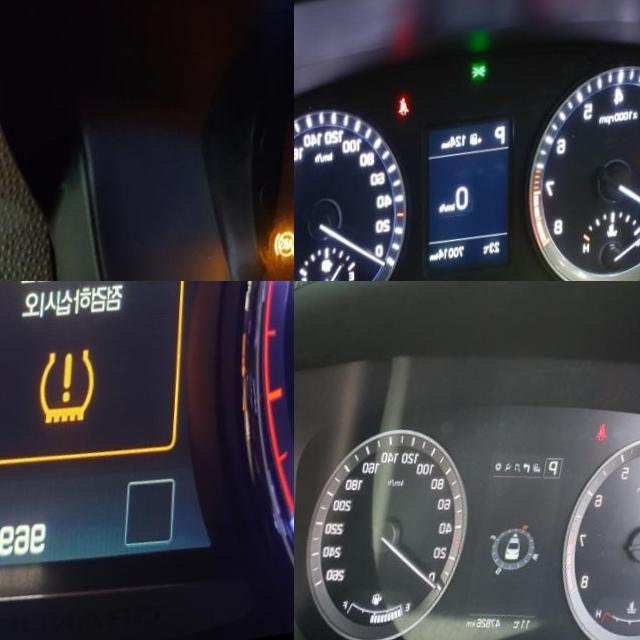SideLamp: (472, 73, 487, 89)
